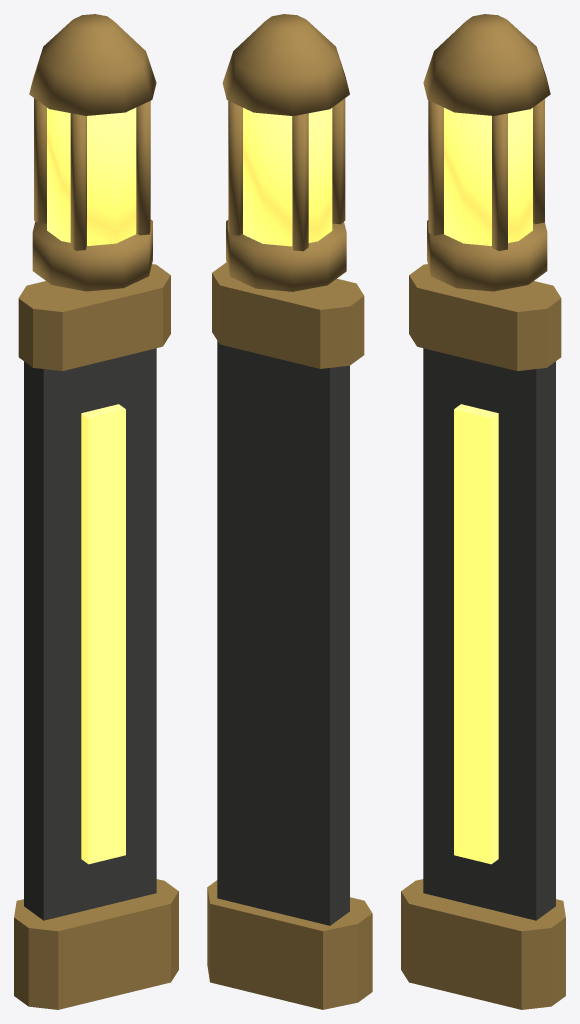
The model's file is b1_edge_lamp.glb.
3 views of the same model, side by side, from view 1: azimuth 30°, elevation 25°; view 2: azimuth 150°, elevation 25°; view 3: azimuth 330°, elevation 25° (orthographic).
Parts seen in each view (by area): view 1: b1_edge_lamp; view 2: b1_edge_lamp; view 3: b1_edge_lamp.
Part boxes in pixels (x1,y1,x2,y2): b1_edge_lamp: (14,14,178,1009); b1_edge_lamp: (207,14,372,1009); b1_edge_lamp: (401,14,565,1009).
Size of the model in its own units: 0.24 by 1.46 by 0.18.
